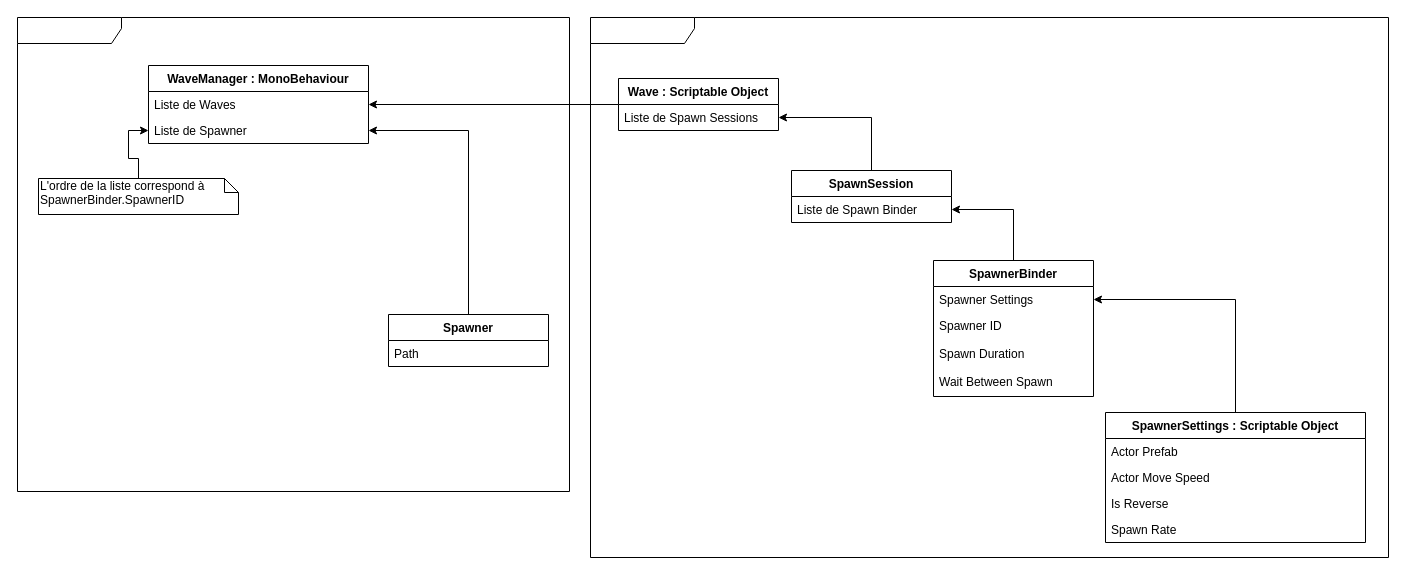
Some shapes in this 1406 by 575 pixel diagram are drawn without their labels. Here are the shapes that lost their labels. From the top down, the centre of each, then its label:
the point at 293,254: Dans la scène
the point at 989,287: Dans Project
